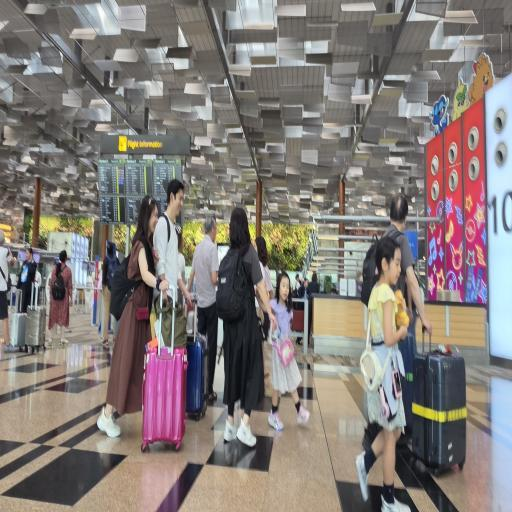person_right: (366, 241, 408, 505), (219, 198, 260, 436), (268, 265, 310, 423), (192, 202, 220, 366)
person_with_luggage_right: (371, 196, 459, 445), (117, 186, 181, 472), (154, 182, 212, 418)
